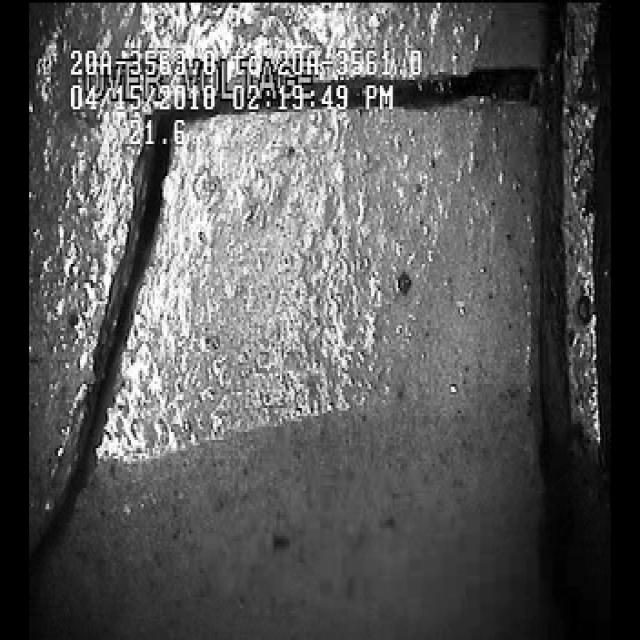Fracture: (54, 188, 208, 522), (427, 32, 530, 138)
